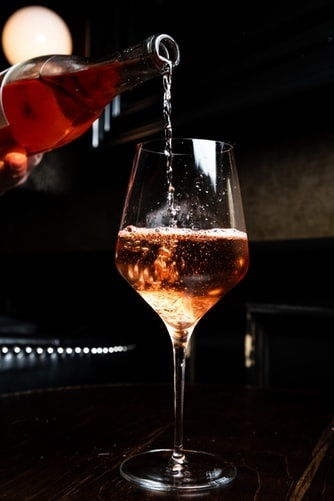whiskey: (102, 138, 250, 487)
